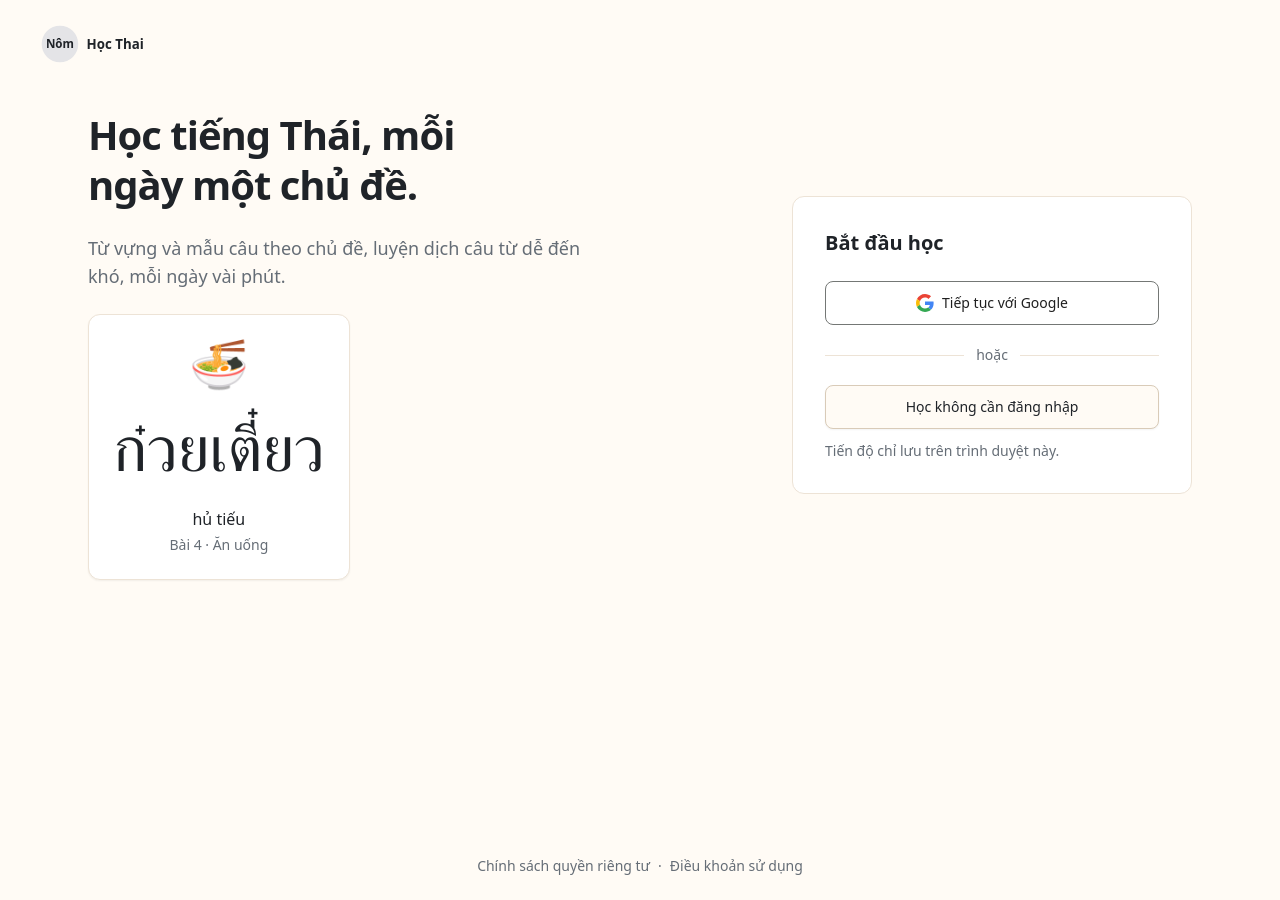
LoginPage (SCR-01) › popup bị chặn → thông báo cảnh báo trong card
What coordinates should you click on to do the following:
click the button with test id "sign-in-google"
I would click on:
 (992, 303)
Its box is [825, 281, 1159, 325].
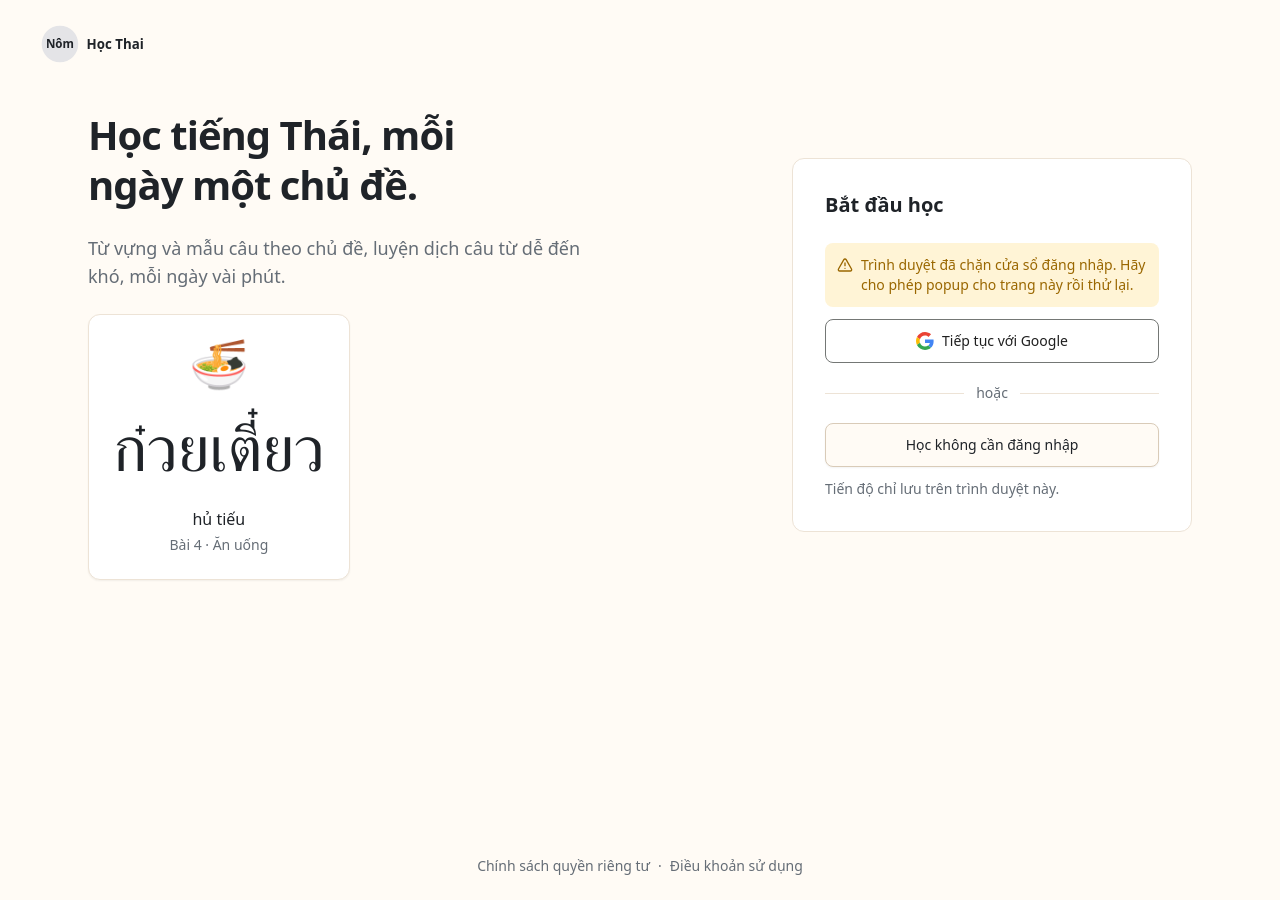
Result: the message with test id "login-popup-blocked" is shown at [825, 243, 1159, 307]
